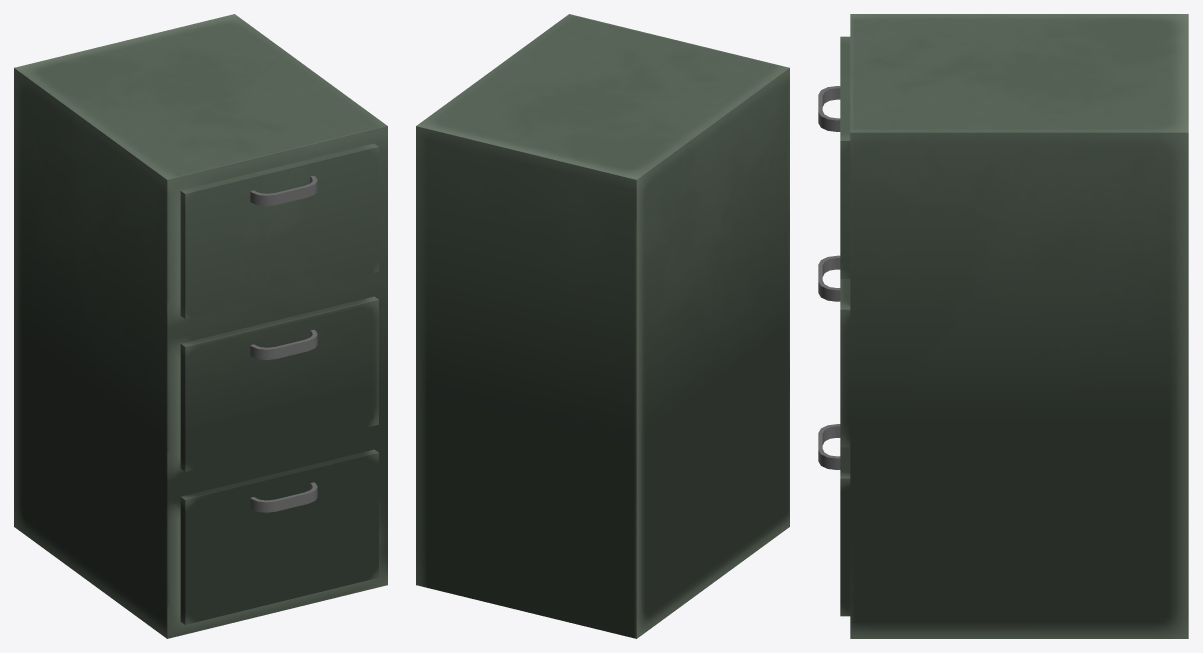
The model's file is SM_prop_Laboratory_Cabinet.fbx.
3 views of the same model, side by side, from view 1: azimuth 30°, elevation 25°; view 2: azimuth 150°, elevation 25°; view 3: azimuth 270°, elevation 25° (orthographic). The views are drawn at different scales.
Visible parts, largest first — view 1: SM_prop_Laboratory_Cabinet_low; view 2: SM_prop_Laboratory_Cabinet_low; view 3: SM_prop_Laboratory_Cabinet_low.
Part boxes in pixels (left/top/right/bottom): SM_prop_Laboratory_Cabinet_low: left=14, top=14, right=387, bottom=638; SM_prop_Laboratory_Cabinet_low: left=416, top=14, right=789, bottom=638; SM_prop_Laboratory_Cabinet_low: left=818, top=14, right=1188, bottom=638.
Size of the model in its own units: 55.88 by 111 by 73.56.
1 material, 1 textured.
